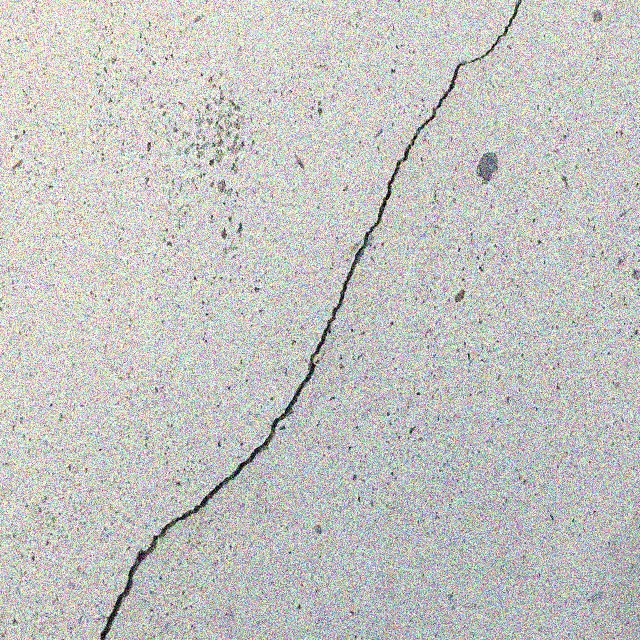SurfaceCrack: (66, 1, 575, 640)
